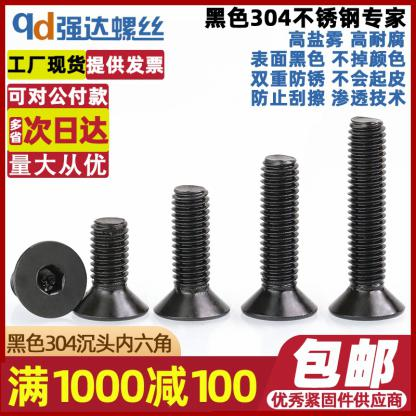FOD: (326, 113, 406, 324), (241, 153, 319, 324), (154, 181, 232, 322), (71, 214, 149, 324), (12, 233, 87, 320)
